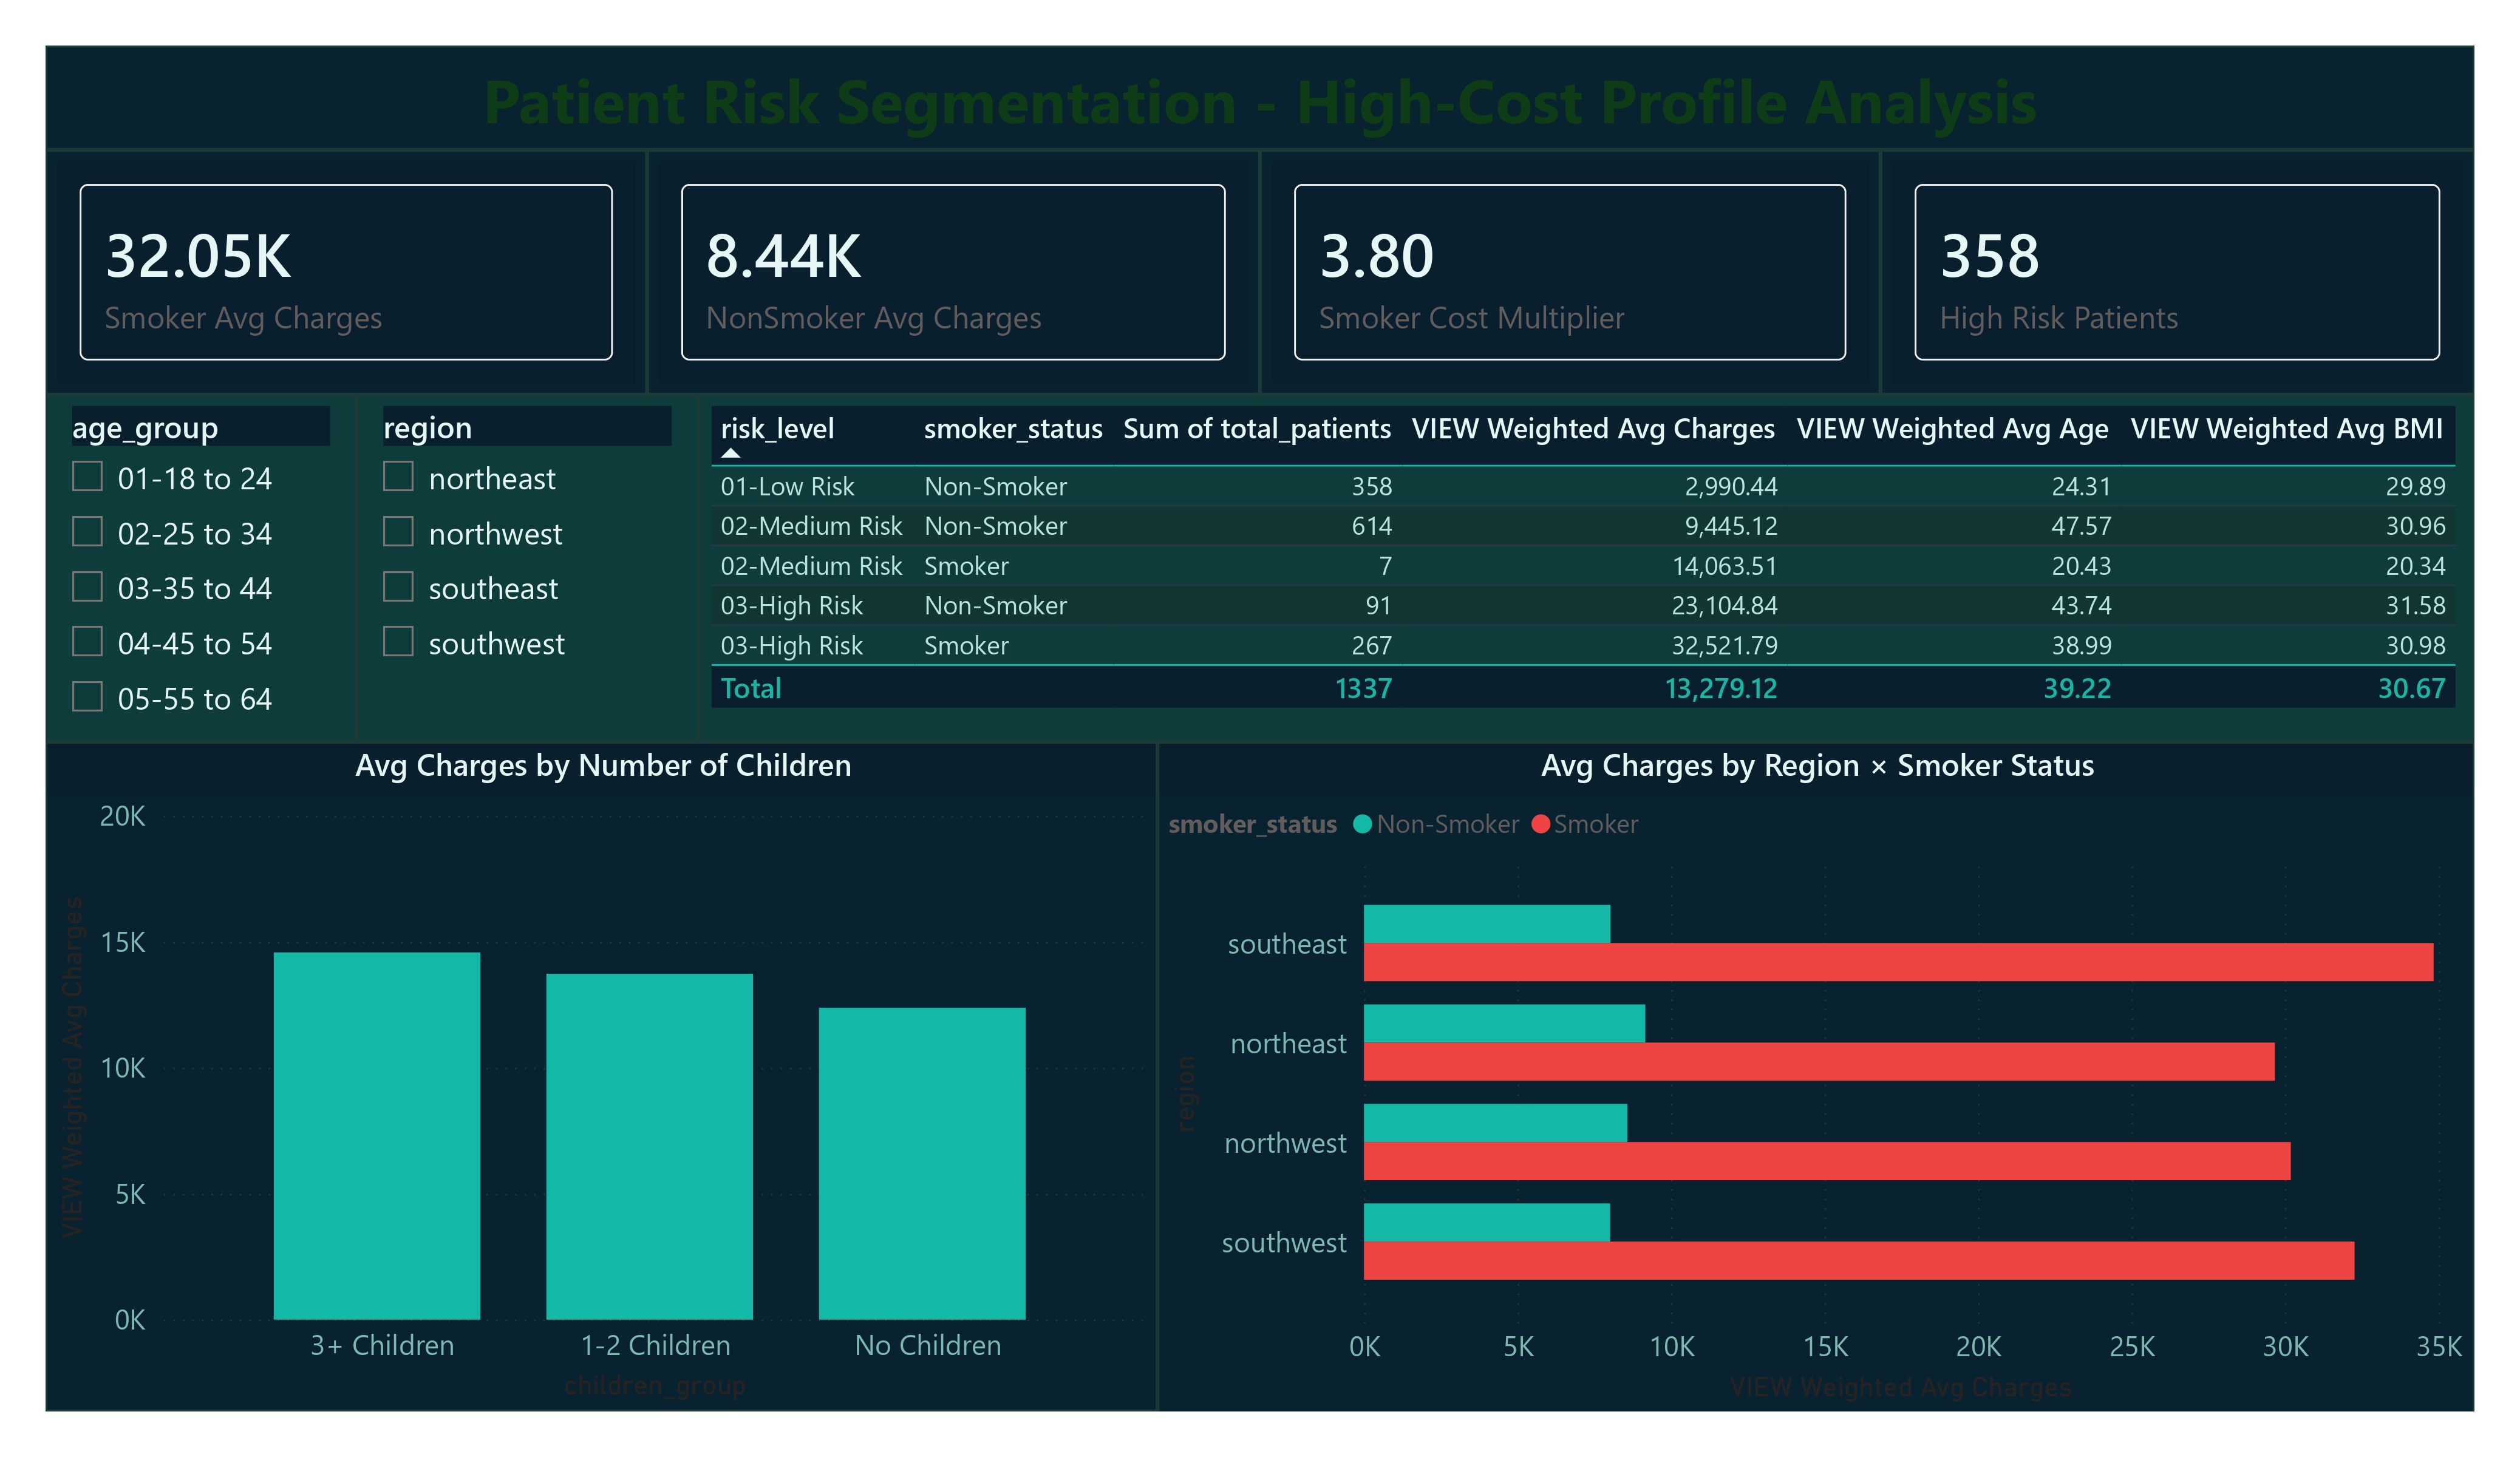

Layout of this report page (visuals, bound fields, positions):
{"tool":"powerbi","page":{"name":"Patient Segmentation","canvas":[1280,720],"ordinal":2},"visuals":[{"type":"textbox","box":[0,0,1280.3,55.4],"z":0},{"type":"cardVisual","fields":{"Data":["insurance_claims.Smoker Avg Charges"]},"box":[0,55,317,129],"z":1},{"type":"cardVisual","fields":{"Data":["insurance_claims.NonSmoker Avg Charges"]},"box":[317,55,323,129],"z":2},{"type":"cardVisual","fields":{"Data":["insurance_claims.Smoker Cost Multiplier"]},"box":[640,55,327,129],"z":3},{"type":"cardVisual","fields":{"Data":["insurance_claims.High Risk Patients"]},"box":[967,55,313,129],"z":4},{"type":"clusteredBarChart","title":"Avg Charges by Region × Smoker Status","fields":{"Category":["vw_insurance_summary.region"],"Series":["vw_insurance_summary.smoker_status"],"Y":["vw_insurance_summary.VIEW Weighted Avg Charges"]},"box":[586,367,694,354],"z":5},{"type":"clusteredColumnChart","title":"Avg Charges by Number of Children","fields":{"Category":["vw_insurance_summary.children_group"],"Y":["vw_insurance_summary.VIEW Weighted Avg Charges"]},"box":[0,367,586,353],"z":6},{"type":"tableEx","fields":{"Values":["vw_insurance_summary.risk_level","vw_insurance_summary.smoker_status","Sum(vw_insurance_summary.total_patients)","vw_insurance_summary.VIEW Weighted Avg Charges","vw_insurance_summary.VIEW Weighted Avg Age","vw_insurance_summary.VIEW Weighted Avg BMI"]},"box":[344,184,936,183],"z":7},{"type":"slicer","fields":{"Values":["vw_insurance_summary.age_group"]},"box":[0,184,164,183],"z":8},{"type":"slicer","fields":{"Values":["vw_insurance_summary.region"]},"box":[164,184,180,183],"z":9}]}

Visuals, with their boxes on the page's 1280x720 design canvas (x1, y1, x2, y2). These are canvas units, not pixel positions in the 2520x1457 screenshot, which may show the page scaled, cropped or inside an application window:
textbox: 0 0 1280 55
cardVisual - insurance_claims.Smoker Avg Charges: 0 55 317 184
cardVisual - insurance_claims.NonSmoker Avg Charges: 317 55 640 184
cardVisual - insurance_claims.Smoker Cost Multiplier: 640 55 967 184
cardVisual - insurance_claims.High Risk Patients: 967 55 1280 184
"Avg Charges by Region × Smoker Status" clusteredBarChart: 586 367 1280 721
"Avg Charges by Number of Children" clusteredColumnChart: 0 367 586 720
tableEx - vw_insurance_summary.risk_level x vw_insurance_summary.smoker_status: 344 184 1280 367
slicer - vw_insurance_summary.age_group: 0 184 164 367
slicer - vw_insurance_summary.region: 164 184 344 367
